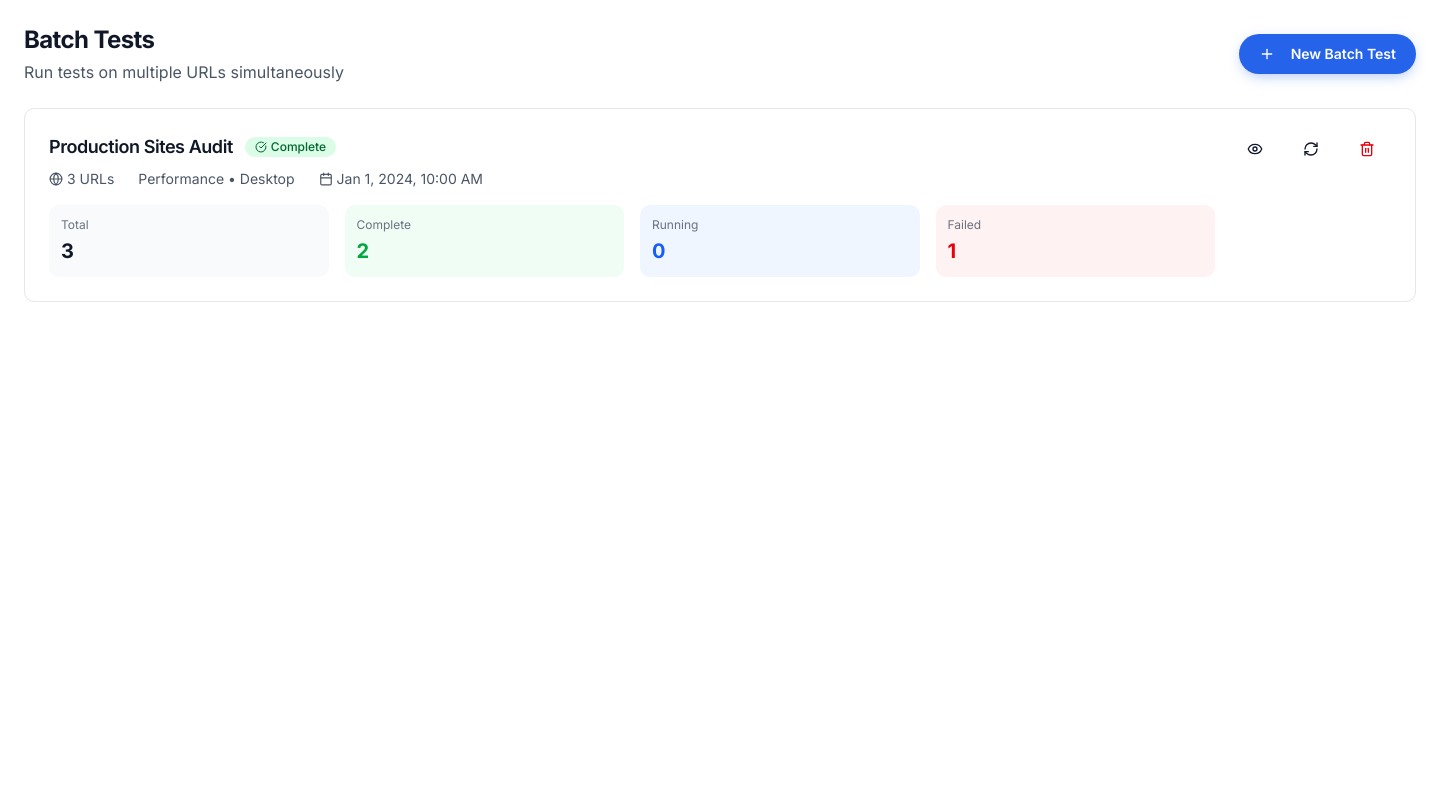
BatchTestsPage › should open create modal when clicking new batch test button
Click the button "New Batch Test".
click(1327, 54)  # box [1239,34,1416,74]
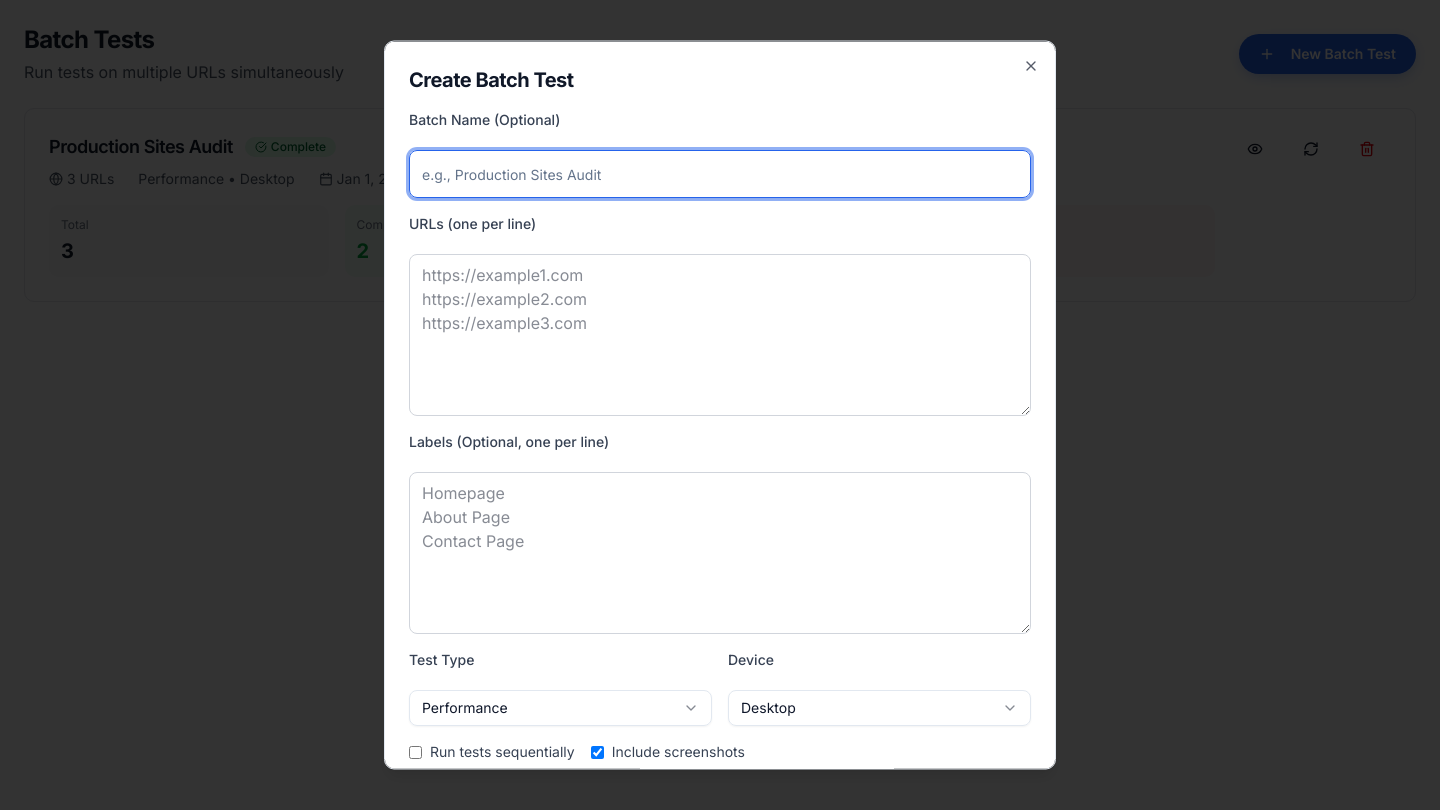
Result: the heading "Create Batch Test" is shown at [409,68,574,92]
Result: the field labelled "Batch Name (Optional)" is shown at [409,150,1031,198]
